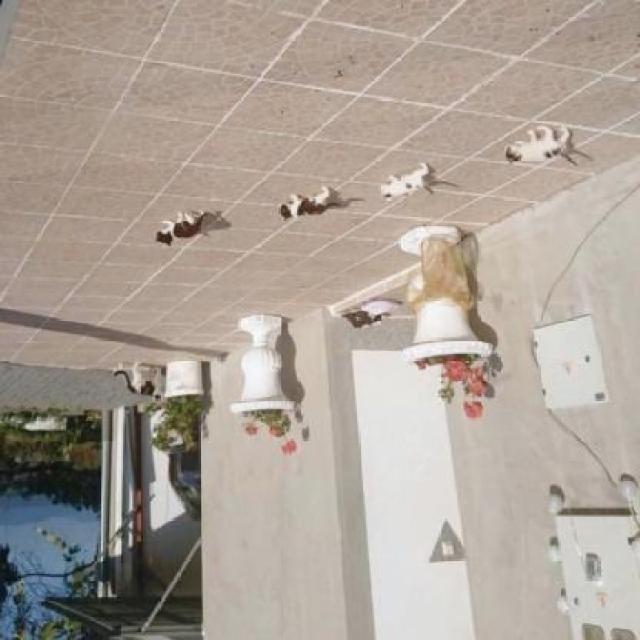cat: (495, 119, 591, 179), (260, 180, 358, 237), (146, 198, 219, 259), (372, 158, 446, 211), (106, 361, 166, 407)
